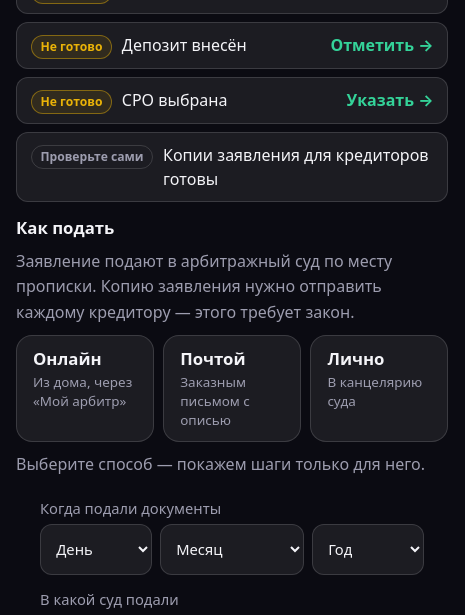
it: the checklist before filing › shows one route at a time, and only after it is chosen
The image size is (465, 615).
(page scrolled)
Expected: the heading "Как подать" is shown, 16,216 -> 114,239
Expected: the text "Копию заявления нужно отправить" is shown, 16,250 -> 392,323
Click the button "Почтой Заказным письмом с описью" at point(232, 388), box 163,335 -> 301,442
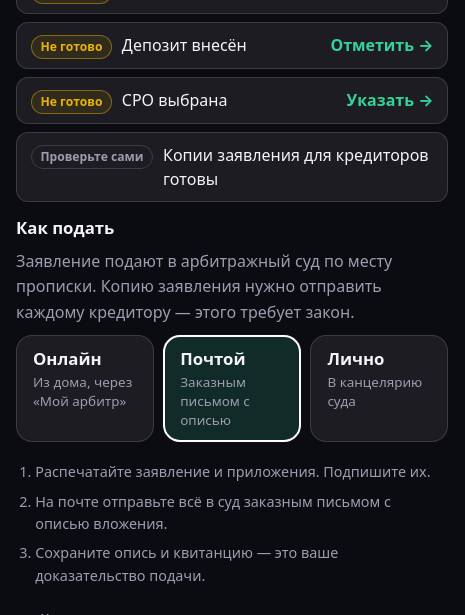
Expected: the text "Войдите на «Мой арбитр»" is not shown
Expected: the list item "заказным письмом с описью" is shown, 35,492 -> 391,533
Click the button "Онлайн Из дома, через «Мой арбитр»" at point(85, 388), box 16,335 -> 154,442
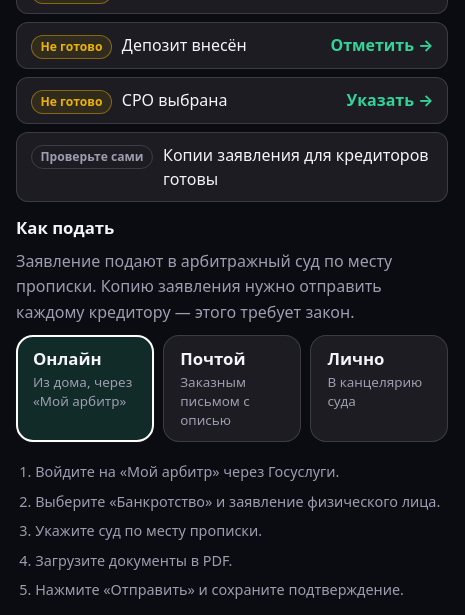
Expected: the list item "Войдите на «Мой арбитр» через Госуслуги." is shown, 35,462 -> 339,481
